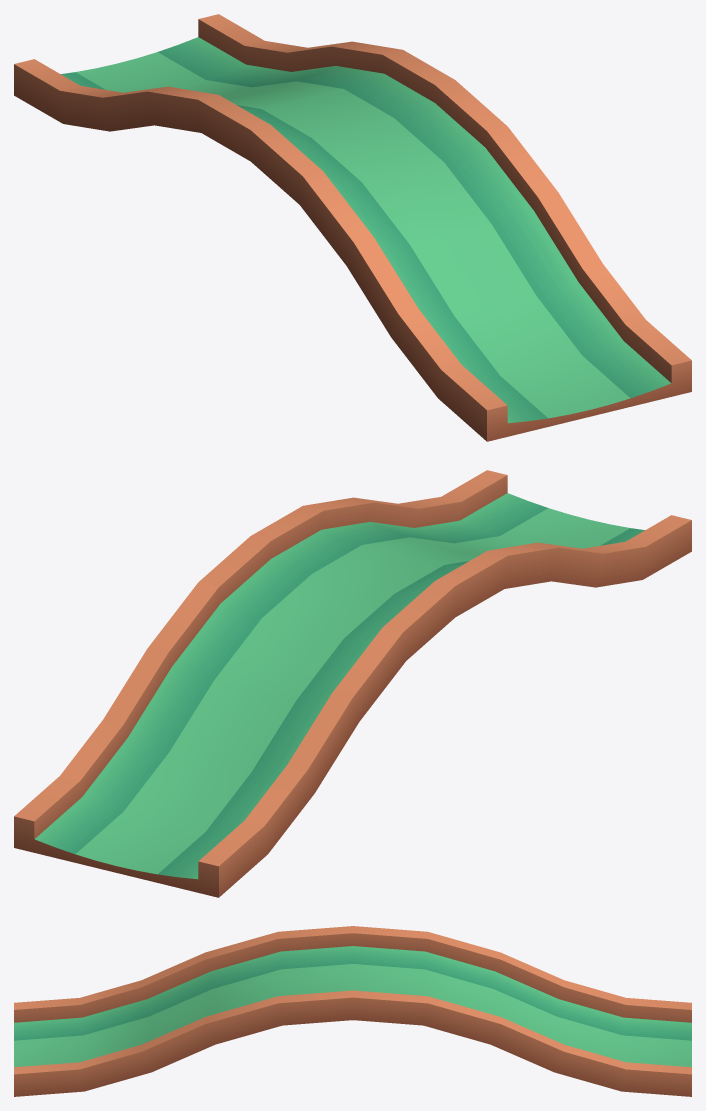
The model's file is spline-concave-straight-bump-up.glb.
The picture shows the model from 3 angles, top to bottom: view 1: azimuth 30°, elevation 25°; view 2: azimuth 150°, elevation 25°; view 3: azimuth 270°, elevation 25°; orthographic projection. The views are drawn at different scales.
Parts seen in each view (by area): view 1: spline-concave-straight-bump-up; view 2: spline-concave-straight-bump-up; view 3: spline-concave-straight-bump-up.
Part boxes in pixels (bbox=[...]): spline-concave-straight-bump-up: bbox=[14, 14, 691, 441]; spline-concave-straight-bump-up: bbox=[14, 470, 691, 897]; spline-concave-straight-bump-up: bbox=[14, 926, 691, 1096].
Bounding box in the file's own units: 0.9998 × 0.6468 × 4.
Materials: 1 (1 with a texture image).
